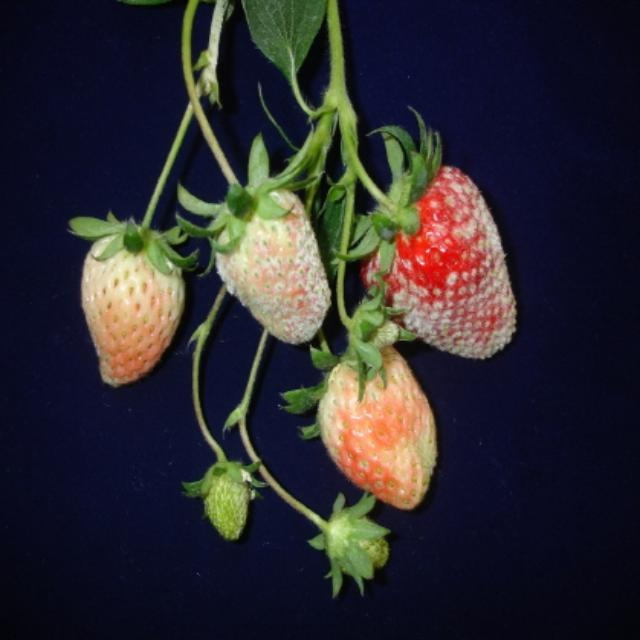Powdery Mildew Fruit: (360, 165, 517, 359), (212, 181, 333, 344)
